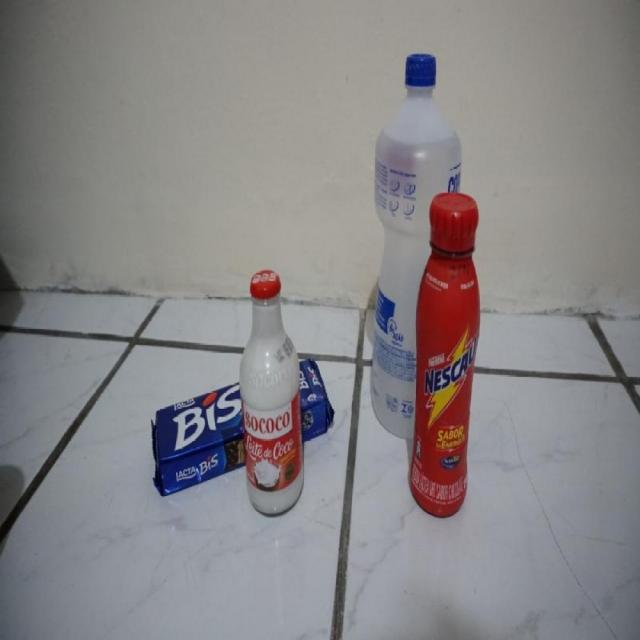AlcoholBottle: (371, 51, 464, 444)
ChocolateMilk: (409, 191, 482, 520)
CoconutMilk: (239, 268, 306, 518)
